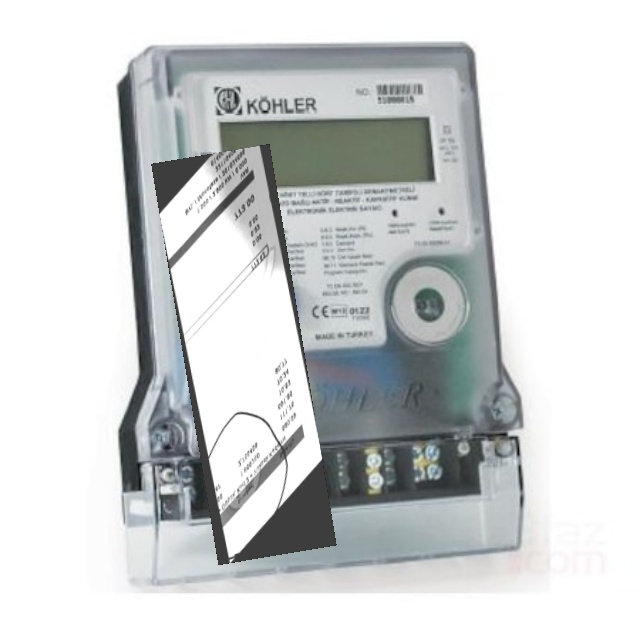electricity-bill: (151, 143, 337, 565)
